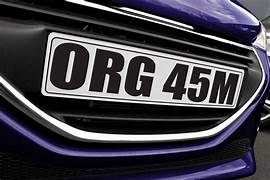number_plate: (50, 33, 241, 111)
